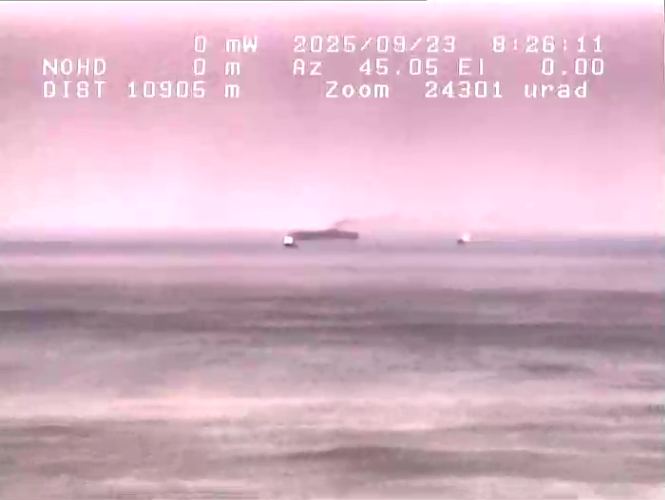TANKER: (282, 218, 366, 240), (449, 225, 472, 243), (279, 233, 300, 252)
